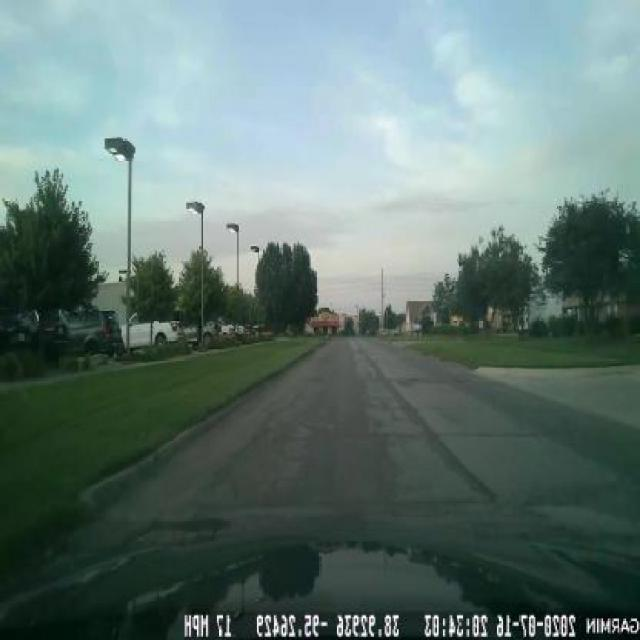pothole: (129, 504, 226, 549)
